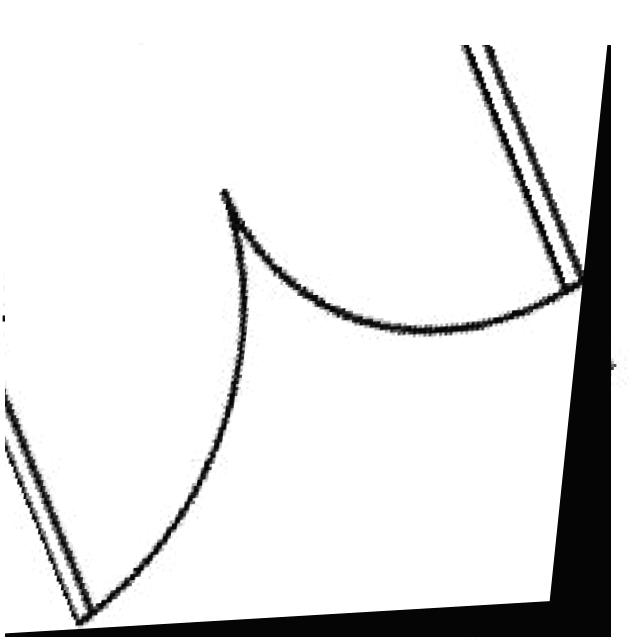door: (5, 45, 611, 637)
